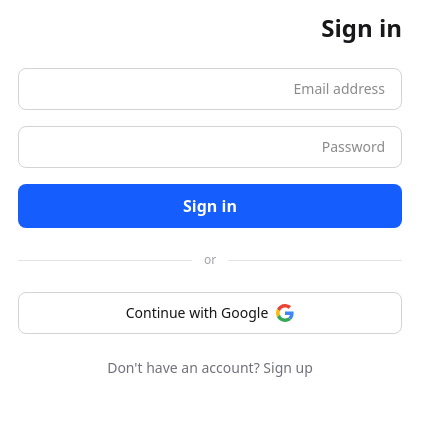
Test: AuthForm › shows error message when signUpAction returns an error
Click the button "Don't have an account? Sign up".
click(210, 368)  # box [18, 358, 402, 378]
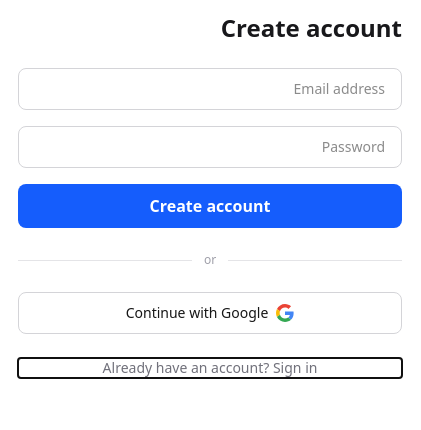
Type "dupe@example.com" into the field labelled "Email address".
click(210, 89); type("dupe@example.com")  # box [18, 68, 402, 110]
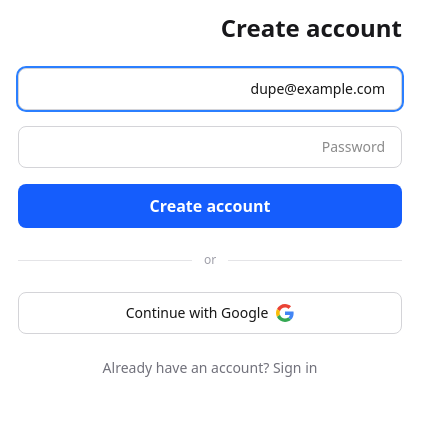
Type "somepassword" into the password field labelled "Password".
click(210, 147); type("somepassword")  # box [18, 126, 402, 168]
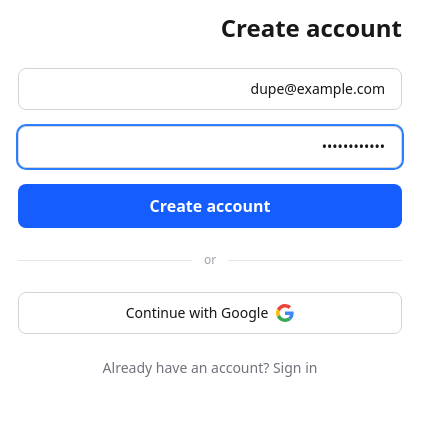
Click the button "Create account".
click(210, 206)  # box [18, 184, 402, 228]
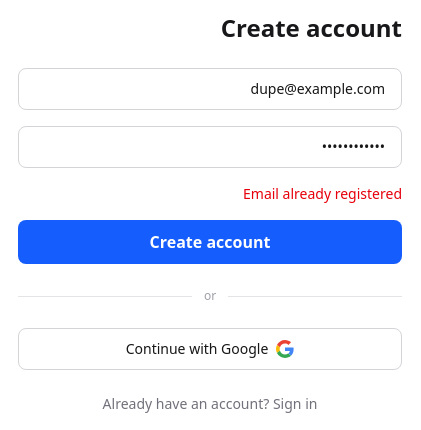
Result: the message reads "Email already registered" at [243, 184, 402, 203]
